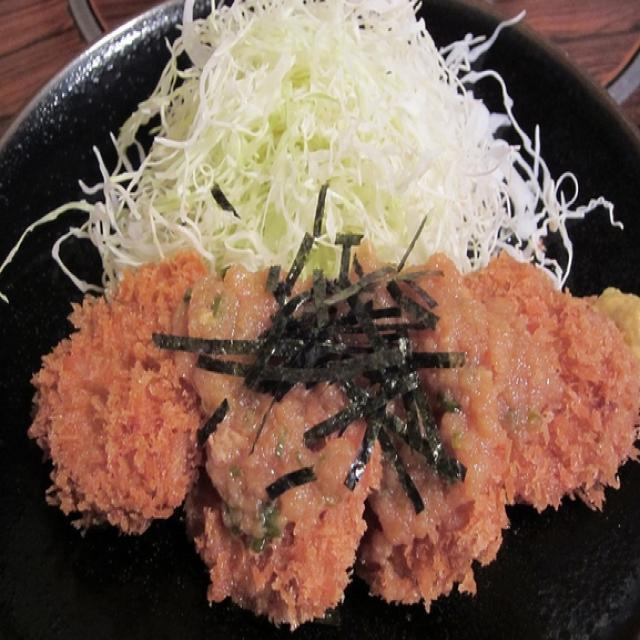牛肉菜式: (31, 213, 629, 631)
